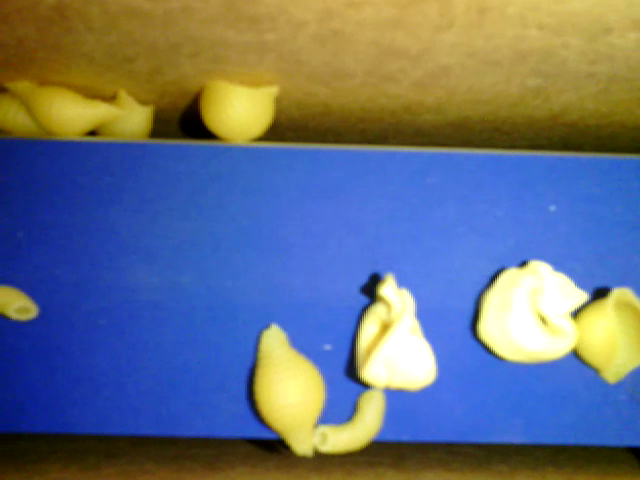elbow: (314, 384, 385, 458), (1, 285, 42, 322)
shell: (250, 323, 325, 456), (1, 80, 130, 139), (575, 292, 639, 382), (200, 80, 281, 145), (94, 87, 157, 139), (1, 91, 56, 139)
tortellini: (473, 258, 593, 365), (357, 267, 441, 393)
